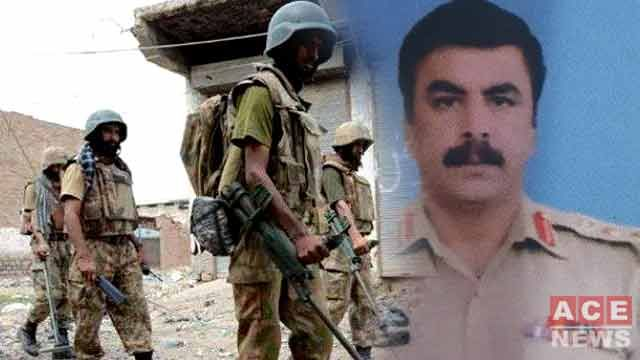uniform: (221, 56, 333, 338), (64, 135, 153, 338), (317, 139, 383, 340), (26, 148, 71, 339)
